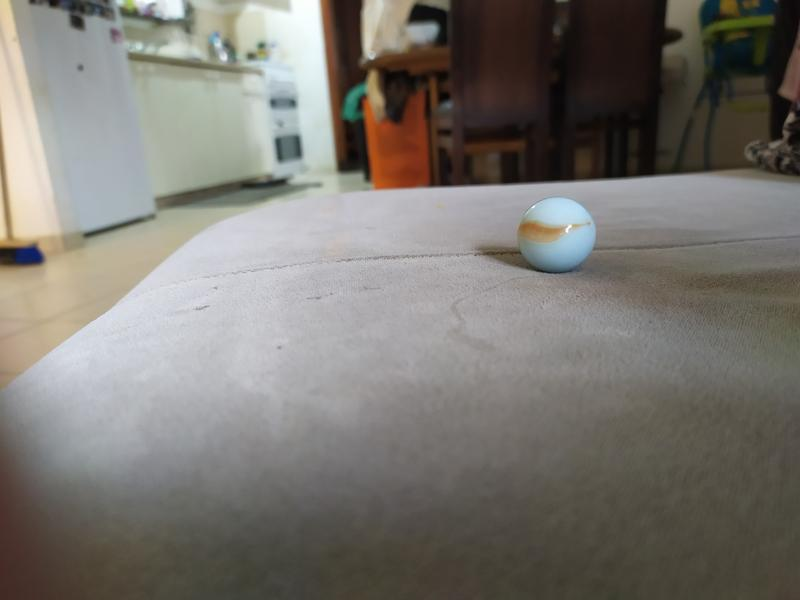Warning: (515, 194, 598, 275)
